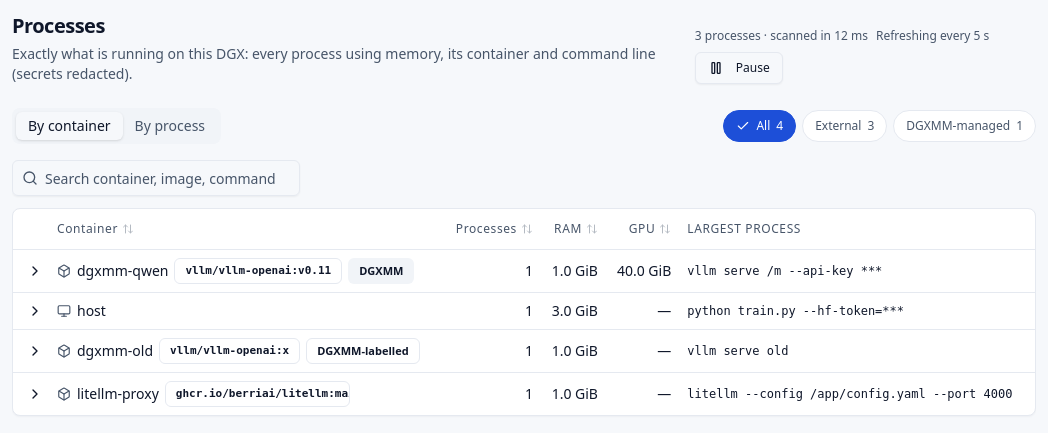
Scenario: Processes › auto-refresh can be paused; the button's name is its visible label
Expected: the text "dgxmm-qwen" is shown, [77, 260, 168, 280]
Expected: the text "Refreshing every 5 s" is shown, [876, 28, 989, 44]
Step 1. Click the button "Pause" → coordinates (739, 68), box [695, 52, 783, 84]
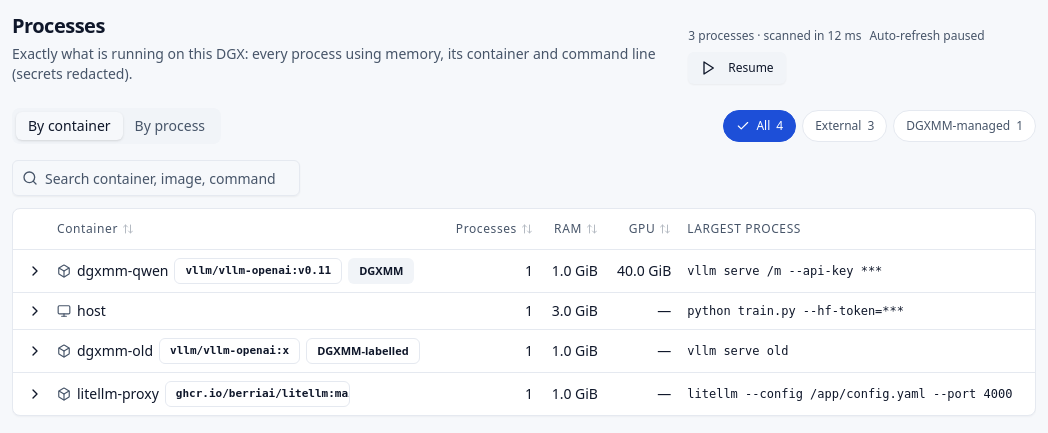
Expected: the button "Resume" is shown
Expected: the text "Auto-refresh paused" is shown, [869, 28, 985, 44]
Step 2. Click the button "Resume" → coordinates (737, 68), box [688, 52, 786, 84]
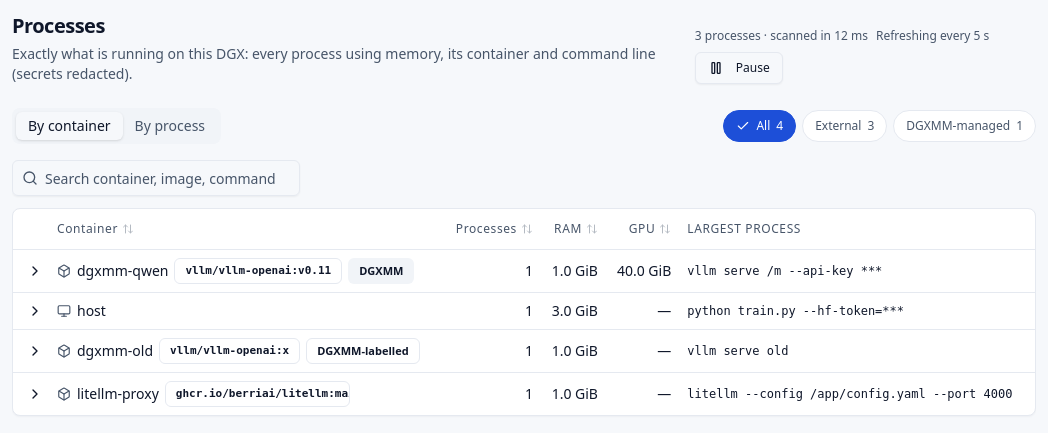
Expected: the button "Pause" is shown, [695, 52, 783, 84]
